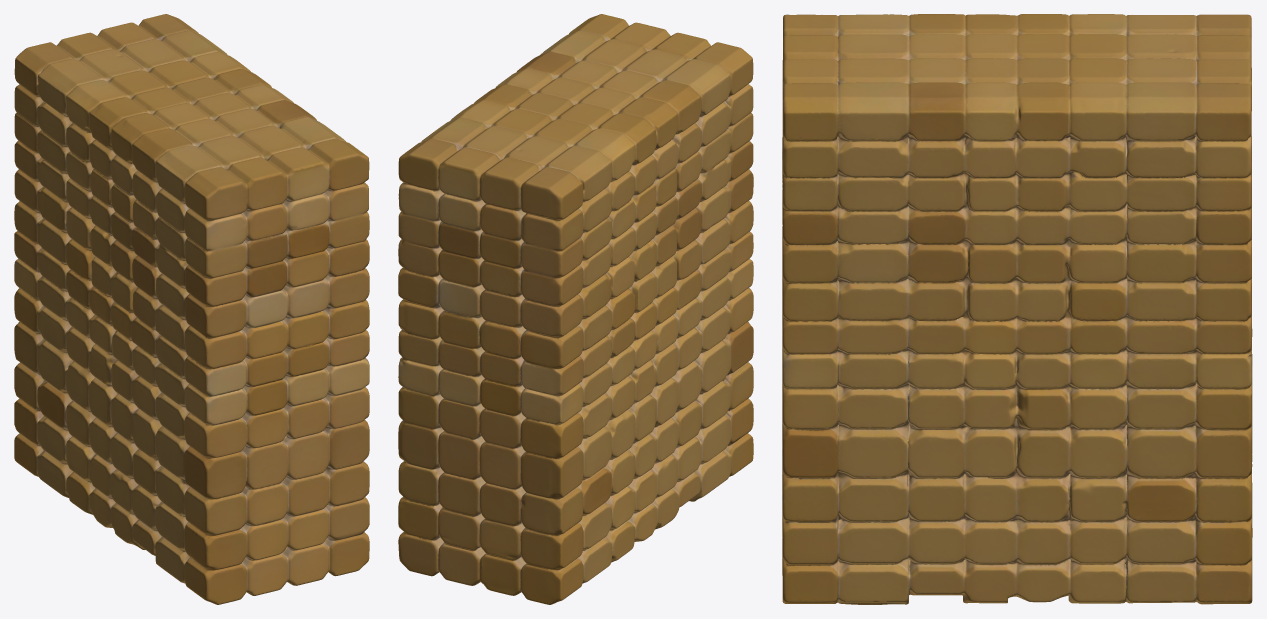
File: stone_path.glb
3 renders of one model, left to right at view 1: azimuth 30°, elevation 25°; view 2: azimuth 150°, elevation 25°; view 3: azimuth 270°, elevation 25°, orthographic. The views are drawn at different scales.
Parts seen in each view (by area): view 1: tripo_node_45256450-b5ee-49f7-8941-f76241f4e7c6; view 2: tripo_node_45256450-b5ee-49f7-8941-f76241f4e7c6; view 3: tripo_node_45256450-b5ee-49f7-8941-f76241f4e7c6.
Boxes of the visible parts, x1,y1,x2,y2 form: tripo_node_45256450-b5ee-49f7-8941-f76241f4e7c6: (14,14,369,604); tripo_node_45256450-b5ee-49f7-8941-f76241f4e7c6: (398,14,753,604); tripo_node_45256450-b5ee-49f7-8941-f76241f4e7c6: (782,14,1252,604).
Bounding box in the file's own units: 0.4111 × 1 × 0.8411.
Materials: 1 (1 with a texture image).
